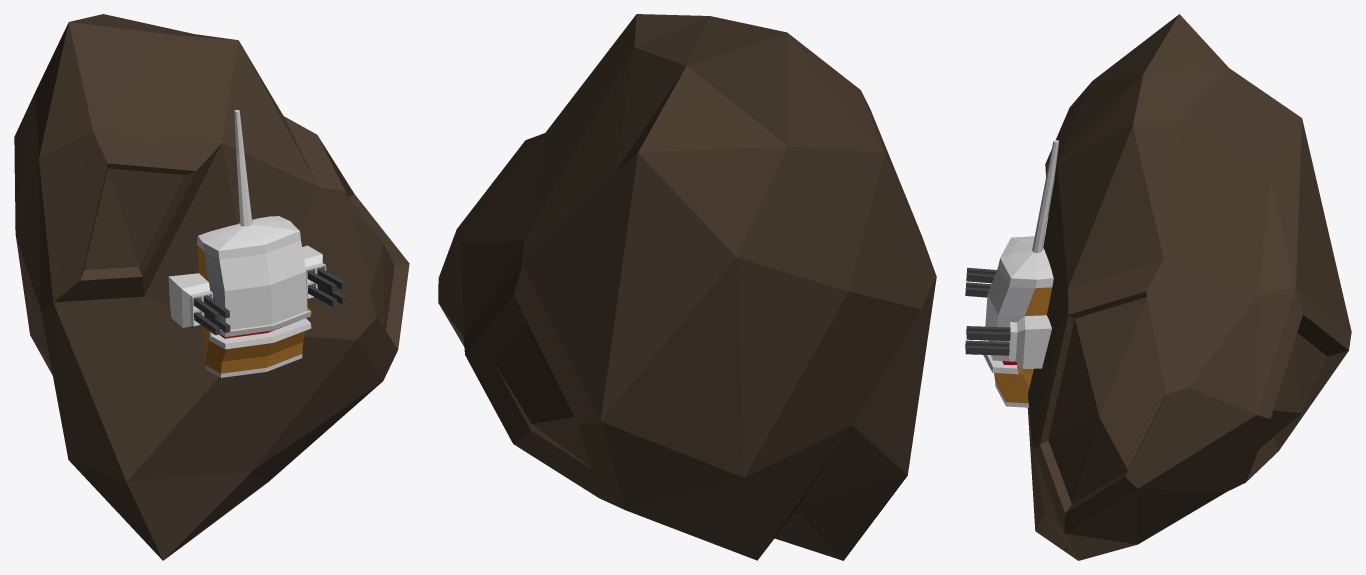
The model's file is turret2.fbx.
The picture shows the model from 3 angles, left to right: view 1: azimuth 30°, elevation 25°; view 2: azimuth 150°, elevation 25°; view 3: azimuth 270°, elevation 25°; orthographic projection. The views are drawn at different scales.
Parts seen in each view (by area): view 1: Cylinder; view 2: Cylinder; view 3: Cylinder.
Boxes of the visible parts, box(x1,y1,x2,y2) form: Cylinder: box(14, 14, 409, 560); Cylinder: box(438, 14, 936, 560); Cylinder: box(965, 14, 1351, 560).
Bounding box in the file's own units: 12.24 × 10.42 × 15.04.
